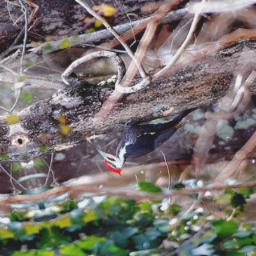Woodpecker: (89, 106, 220, 183)
